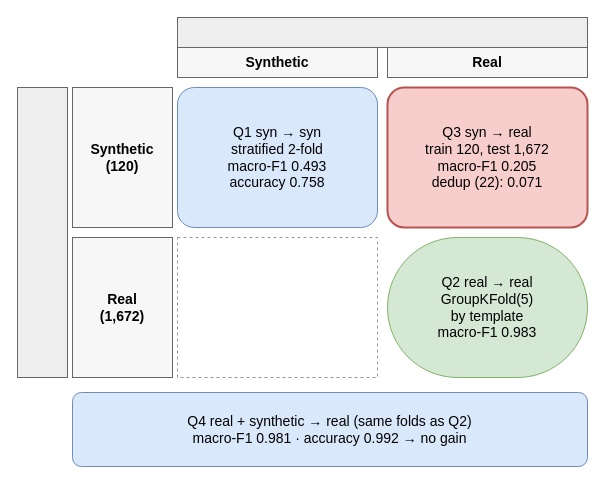
Some shapes in this 606 by 484 pixel diagram are drawn without their labels. Here are the shapes that lost their labels. From the top down, the centre of each, then its label:
[382,32]: TEST ON
[42,232]: TRAIN ON
[277,307]: not studied (real → synthetic is not the practical case)
